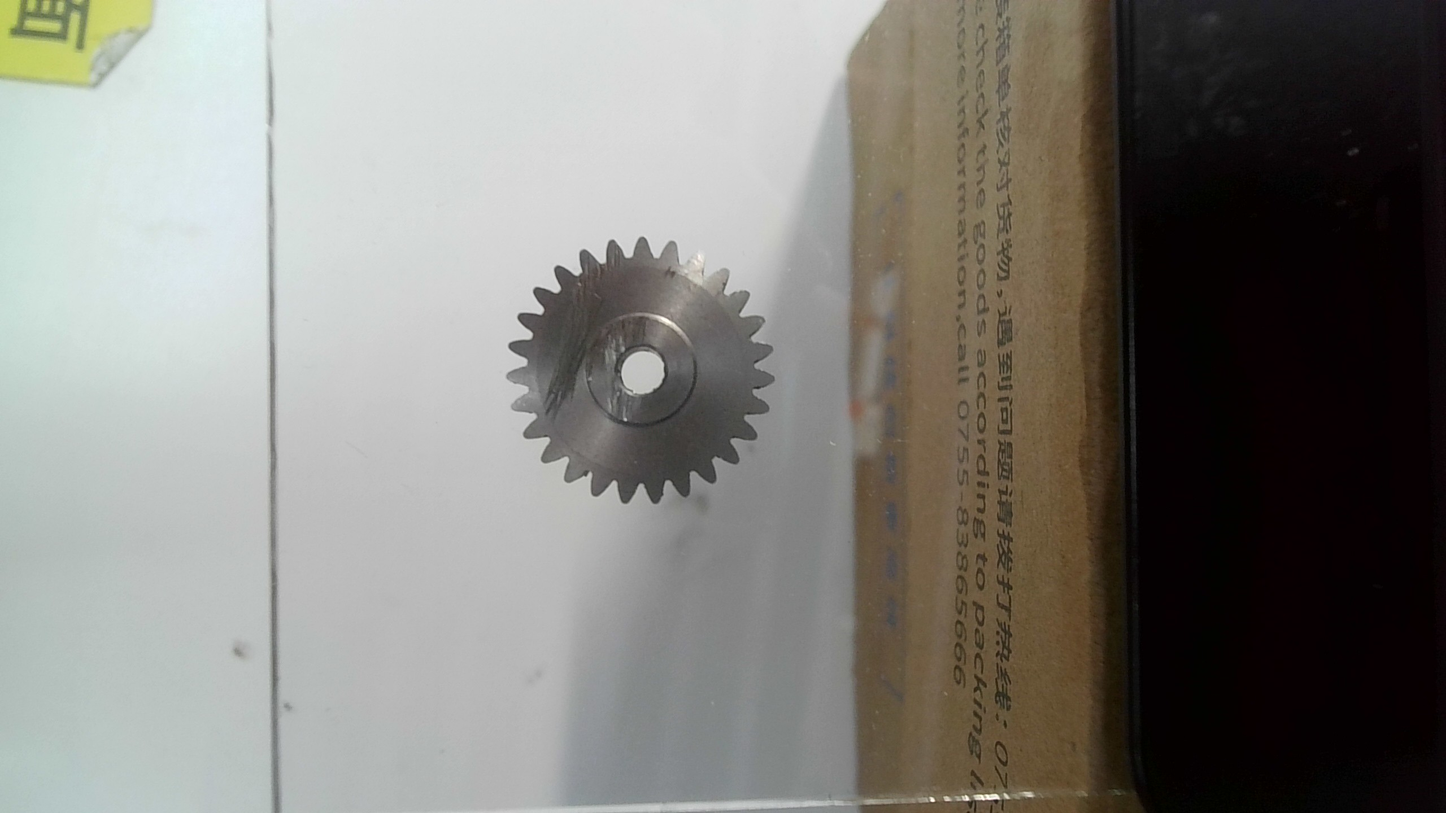gear: (496, 232, 786, 514)
